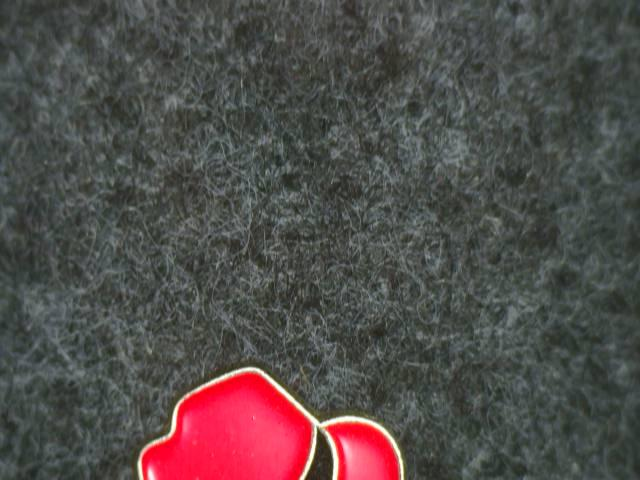Red-Hat: (94, 352, 429, 480)
